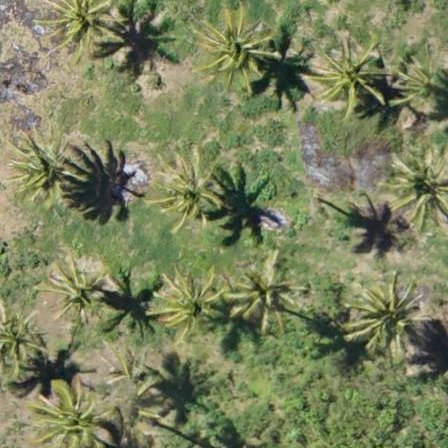palm_tree: (193, 9, 271, 89), (153, 153, 222, 227), (351, 276, 423, 345), (315, 42, 381, 113), (32, 383, 102, 448), (36, 1, 118, 54), (231, 259, 296, 324), (155, 269, 215, 335), (389, 154, 448, 219), (7, 138, 65, 199), (46, 260, 101, 319), (386, 56, 447, 109)
